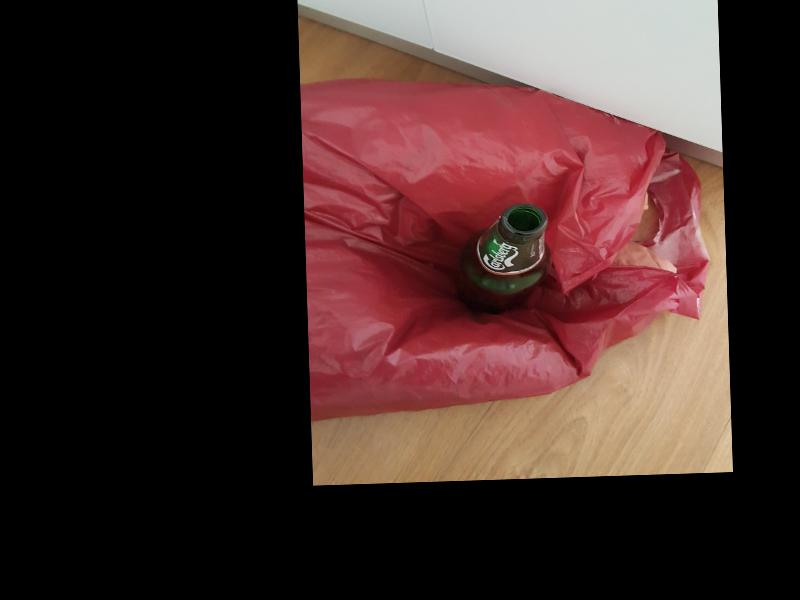Beer: (457, 203, 550, 316)
